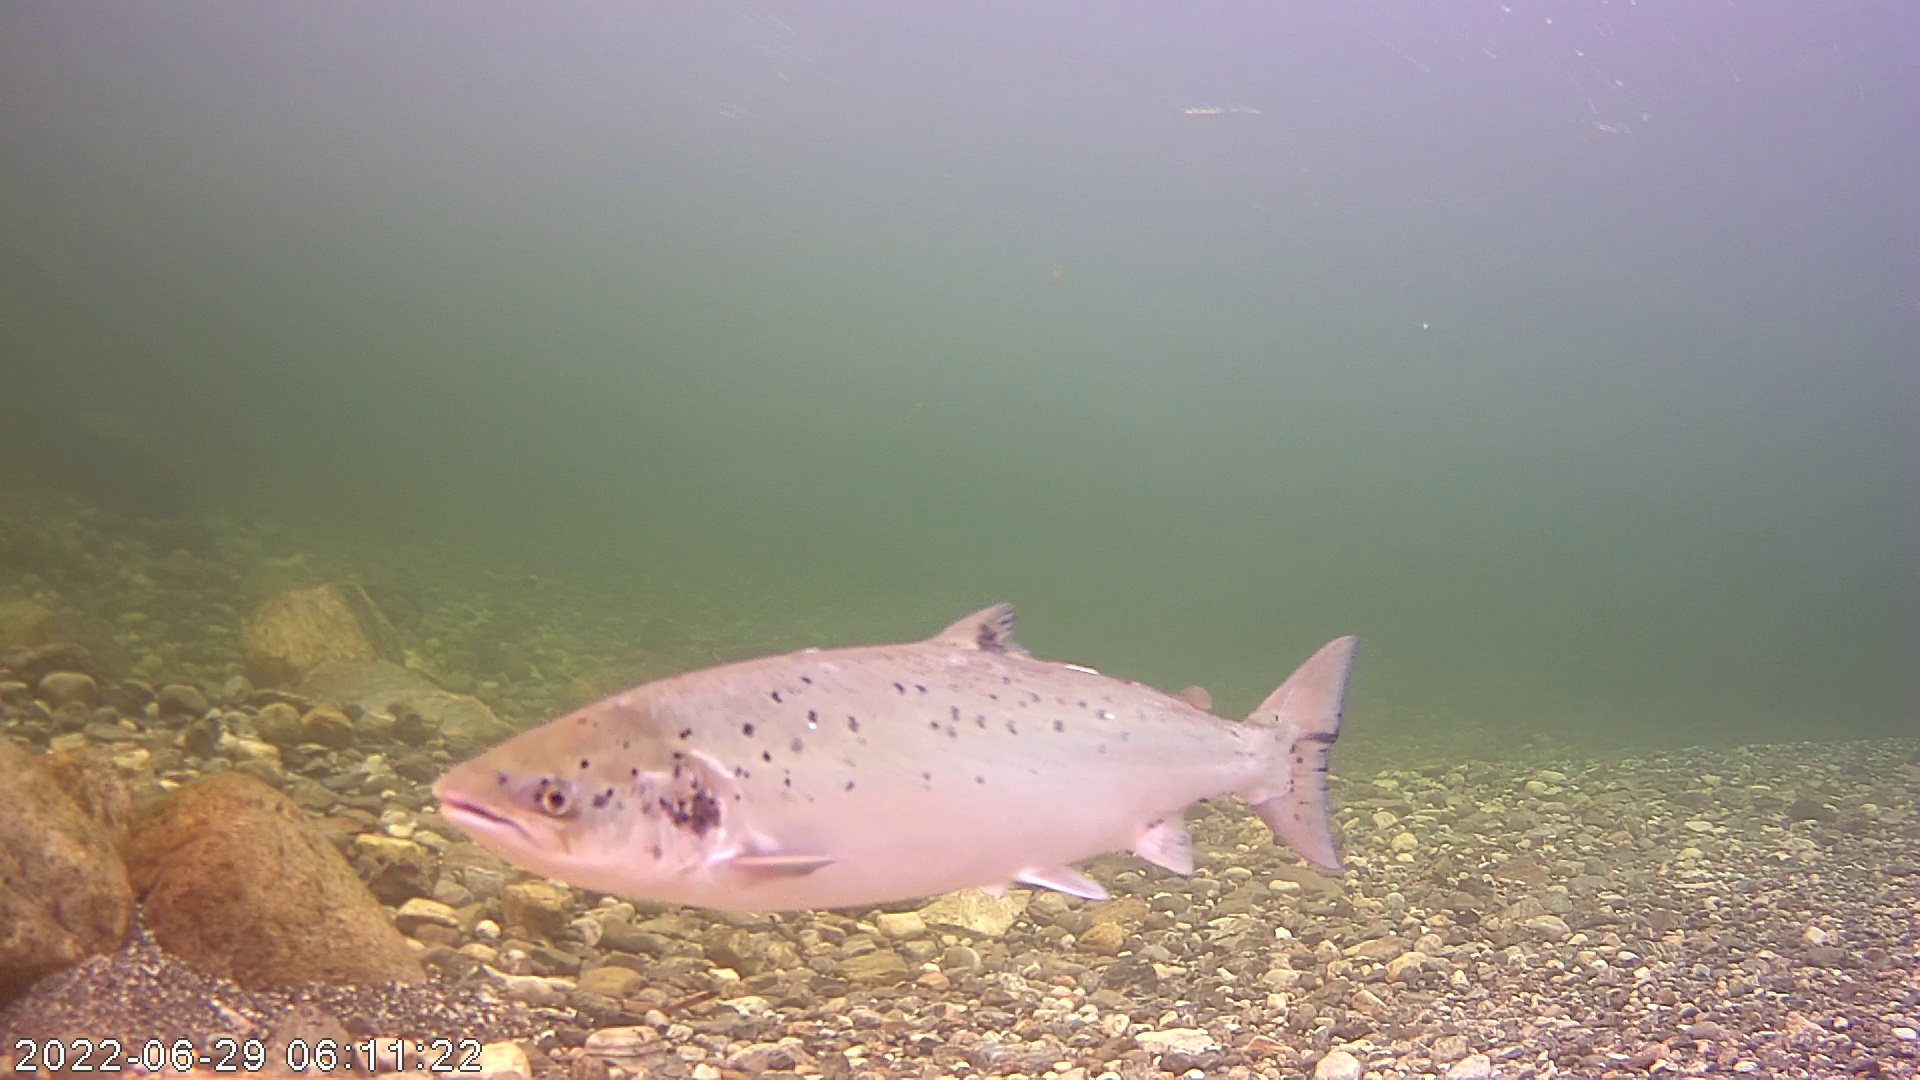salmon: (447, 529, 1367, 928)
